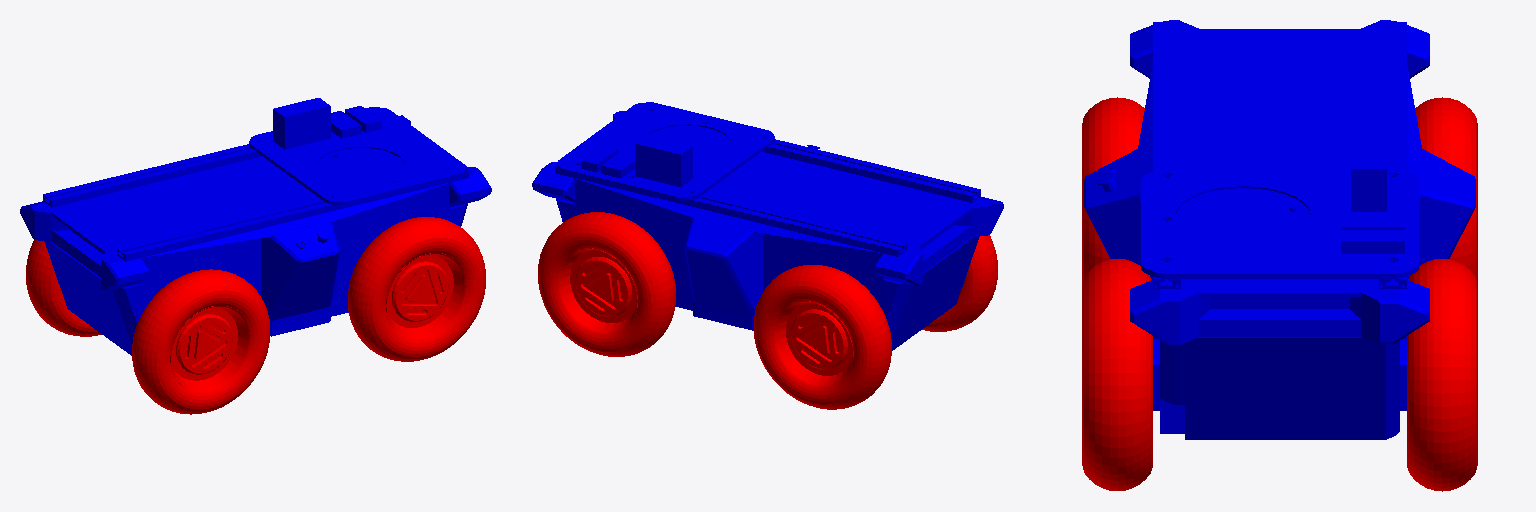
robot.urdf — caurobot_description:
<?xml version="1.0" encoding="utf-8"?>
<!-- This URDF was automatically created by SolidWorks to URDF Exporter! Originally created by [author] ([email redacted]) 
     Commit Version: 1.6.0-1-g15f4949  Build Version: 1.6.7594.29634
     For more information, please see http://wiki.ros.org/sw_urdf_exporter -->
<robot
  name="caurobot_description">
  <link
    name="base_link">
    <inertial>
      <origin
        xyz="0.0046019 0.001076 0.13741"
        rpy="0 0 0" />
      <mass
        value="80.936" />
      <inertia
        ixx="1.394"
        ixy="-0.0012908"
        ixz="-0.0010527"
        iyy="4.9931"
        iyz="-0.00089468"
        izz="5.5153" />
    </inertial>
    <visual>
      <origin
        xyz="0 0 0"
        rpy="0 0 0" />
      <geometry>
        <mesh
          filename="package://caurobot_description/meshes/base_link.STL" />
      </geometry>
      <material
        name="">
        <color
          rgba="0 0 1 1" />
      </material>
    </visual>
    <collision>
      <origin
        xyz="0 0 0"
        rpy="0 0 0" />
      <geometry>
        <mesh
          filename="package://caurobot_description/meshes/base_link.STL" />
      </geometry>
    </collision>
  </link>
  <link
    name="left_front_link">
    <inertial>
      <origin
        xyz="8.1201E-07 -0.022137 -1.9582E-06"
        rpy="0 0 0" />
      <mass
        value="5.6581" />
      <inertia
        ixx="0.045747"
        ixy="-8.2978E-08"
        ixz="-2.9744E-09"
        iyy="0.084763"
        iyz="2.001E-07"
        izz="0.045747" />
    </inertial>
    <visual>
      <origin
        xyz="0 0 0"
        rpy="0 0 0" />
      <geometry>
        <mesh
          filename="package://caurobot_description/meshes/left_front_link.STL" />
      </geometry>
      <material
        name="">
        <color
          rgba="1 0 0 1" />
      </material>
    </visual>
    <collision>
      <origin
        xyz="0 0 0"
        rpy="0 0 0" />
      <geometry>
        <mesh
          filename="package://caurobot_description/meshes/left_front_link.STL" />
      </geometry>
    </collision>
  </link>
  <joint
    name="left_front_joint"
    type="continuous">
    <origin
      xyz="0.269999999999996 0.251796098814331 0.0480000000000079"
      rpy="0 0 0" />
    <parent
      link="base_link" />
    <child
      link="left_front_link" />
    <axis
      xyz="0 -1 0" />
  </joint>
  <link
    name="right_front_link">
    <inertial>
      <origin
        xyz="-5.0627E-07 0.022137 -2.0585E-06"
        rpy="0 0 0" />
      <mass
        value="5.6581" />
      <inertia
        ixx="0.045747"
        ixy="-5.1736E-08"
        ixz="1.9495E-09"
        iyy="0.084763"
        iyz="-2.1036E-07"
        izz="0.045747" />
    </inertial>
    <visual>
      <origin
        xyz="0 0 0"
        rpy="0 0 0" />
      <geometry>
        <mesh
          filename="package://caurobot_description/meshes/right_front_link.STL" />
      </geometry>
      <material
        name="">
        <color
          rgba="1 0 0 1" />
      </material>
    </visual>
    <collision>
      <origin
        xyz="0 0 0"
        rpy="0 0 0" />
      <geometry>
        <mesh
          filename="package://caurobot_description/meshes/right_front_link.STL" />
      </geometry>
    </collision>
  </link>
  <joint
    name="right_front_joint"
    type="continuous">
    <origin
      xyz="0.270000000000003 -0.251796098814325 0.0479999999999995"
      rpy="0 0 0" />
    <parent
      link="base_link" />
    <child
      link="right_front_link" />
    <axis
      xyz="0 1 0" />
  </joint>
  <link
    name="left_back_link">
    <inertial>
      <origin
        xyz="8.1201E-07 -0.022137 -1.9582E-06"
        rpy="0 0 0" />
      <mass
        value="5.6581" />
      <inertia
        ixx="0.045747"
        ixy="-8.2978E-08"
        ixz="-2.9744E-09"
        iyy="0.084763"
        iyz="2.001E-07"
        izz="0.045747" />
    </inertial>
    <visual>
      <origin
        xyz="0 0 0"
        rpy="0 0 0" />
      <geometry>
        <mesh
          filename="package://caurobot_description/meshes/left_back_link.STL" />
      </geometry>
      <material
        name="">
        <color
          rgba="1 0 0 1" />
      </material>
    </visual>
    <collision>
      <origin
        xyz="0 0 0"
        rpy="0 0 0" />
      <geometry>
        <mesh
          filename="package://caurobot_description/meshes/left_back_link.STL" />
      </geometry>
    </collision>
  </link>
  <joint
    name="left_back_joint"
    type="continuous">
    <origin
      xyz="-0.270000000000004 0.251796098814323 0.0480000000000005"
      rpy="0 0 0" />
    <parent
      link="base_link" />
    <child
      link="left_back_link" />
    <axis
      xyz="0 -1 0" />
  </joint>
  <link
    name="right_back_link">
    <inertial>
      <origin
        xyz="8.1201E-07 0.022137 -1.9582E-06"
        rpy="0 0 0" />
      <mass
        value="5.6581" />
      <inertia
        ixx="0.045747"
        ixy="8.2978E-08"
        ixz="-2.9744E-09"
        iyy="0.084763"
        iyz="-2.001E-07"
        izz="0.045747" />
    </inertial>
    <visual>
      <origin
        xyz="0 0 0"
        rpy="0 0 0" />
      <geometry>
        <mesh
          filename="package://caurobot_description/meshes/right_back_link.STL" />
      </geometry>
      <material
        name="">
        <color
          rgba="1 0 0 1" />
      </material>
    </visual>
    <collision>
      <origin
        xyz="0 0 0"
        rpy="0 0 0" />
      <geometry>
        <mesh
          filename="package://caurobot_description/meshes/right_back_link.STL" />
      </geometry>
    </collision>
  </link>
  <joint
    name="right_back_joint"
    type="continuous">
    <origin
      xyz="-0.269999999999997 -0.251796098814332 0.0479999999999922"
      rpy="0 0 0" />
    <parent
      link="base_link" />
    <child
      link="right_back_link" />
    <axis
      xyz="0 1 0" />
  </joint>
</robot>

--- Render facts (derived) ---
Views: 3 orthographic renders of the robot side by side, from view 1: azimuth 30°, elevation 25°; view 2: azimuth 150°, elevation 25°; view 3: azimuth 270°, elevation 25°.
Robot: caurobot_description — 5 links, 4 joints (4 continuous); root link base_link; default pose: all joints at 0.
Visible links, largest first — view 1: base_link, right_front_link, right_back_link, left_back_link; view 2: base_link, left_front_link, left_back_link, right_back_link; view 3: base_link, left_front_link, right_front_link, right_back_link, left_back_link.
Link boxes in pixels (x1,y1,x2,y2): base_link: (20, 98, 491, 355); right_front_link: (348, 217, 485, 361); right_back_link: (132, 269, 269, 414); left_back_link: (26, 240, 101, 336); base_link: (532, 102, 1003, 350); left_front_link: (538, 212, 675, 356); left_back_link: (754, 265, 891, 409); right_back_link: (922, 235, 997, 331); base_link: (1084, 20, 1475, 439); left_front_link: (1407, 259, 1477, 491); right_front_link: (1082, 259, 1152, 490); right_back_link: (1082, 97, 1144, 283); left_back_link: (1415, 97, 1477, 283).
Size in the robot's own frame: 0.94 by 0.5602 by 0.476 metres.
Meshes: 5 distinct files referenced, 5 mesh visuals loaded (5 binary STL).